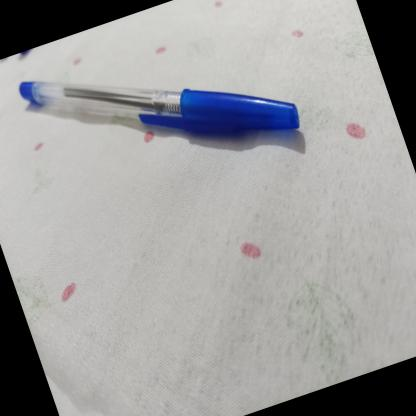pencil: (23, 78, 295, 139)
